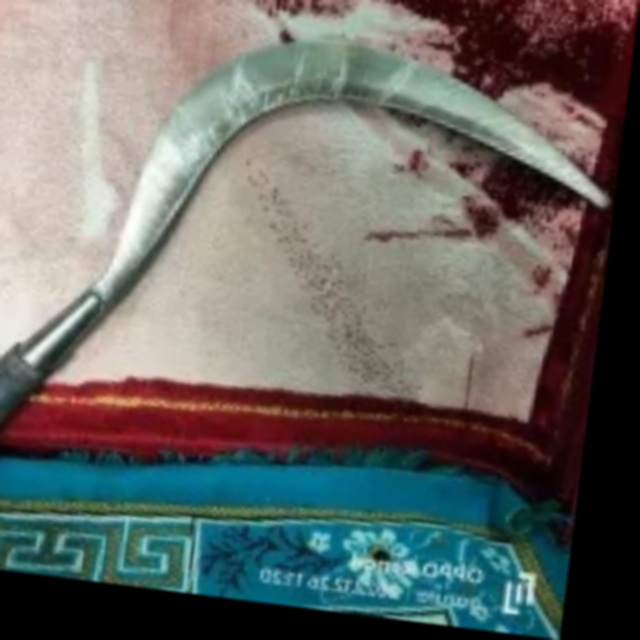Sharp-Object: (0, 0, 632, 581)
